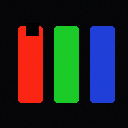1 square: (26, 23, 38, 35)
